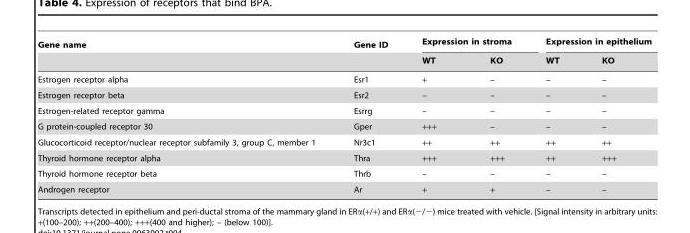table: (36, 36, 651, 194)
table column: (36, 36, 334, 194), (579, 36, 651, 194), (334, 36, 404, 194), (462, 36, 528, 194), (404, 36, 462, 194), (528, 36, 579, 194)
table column header: (36, 36, 651, 68)
table row: (36, 68, 651, 87), (36, 36, 651, 52), (36, 52, 651, 68), (36, 117, 651, 133), (36, 133, 651, 149), (36, 149, 651, 165), (36, 87, 651, 102), (36, 102, 651, 117), (36, 165, 651, 180), (36, 180, 651, 194)
table spanning cell: (36, 36, 334, 68), (334, 36, 404, 68), (404, 36, 528, 52), (528, 36, 651, 52)
